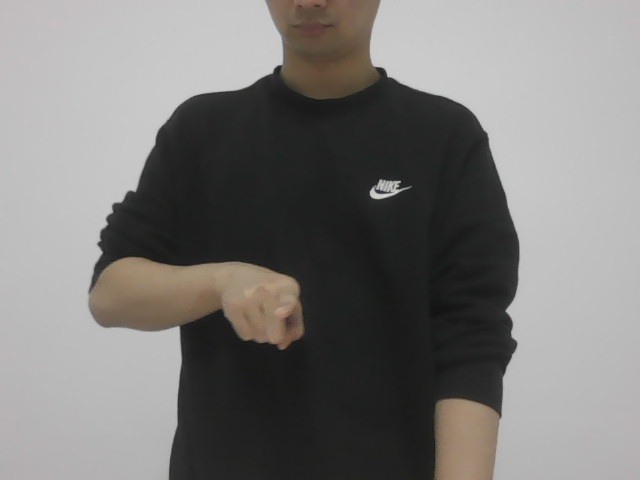you/your/this: (202, 252, 323, 353)
